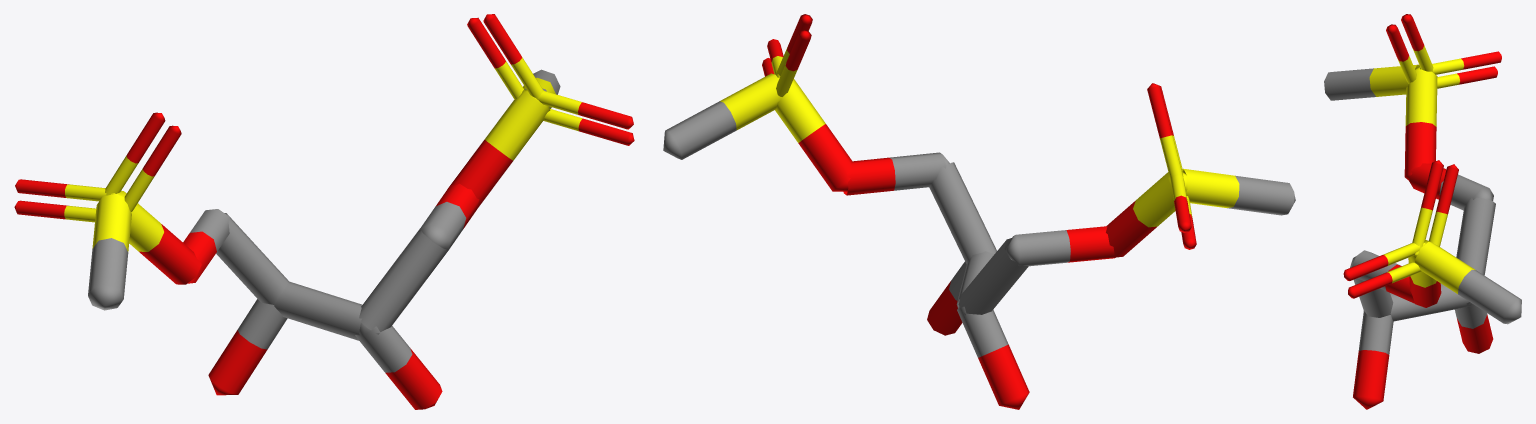
Rendered from treosulfan.glb.
3 views of the same model, side by side, from view 1: azimuth 30°, elevation 25°; view 2: azimuth 150°, elevation 25°; view 3: azimuth 270°, elevation 25° (orthographic). The views are drawn at different scales.
Parts seen in each view (by area): view 1: node-geom11; view 2: node-geom11; view 3: node-geom11.
Boxes of the visible parts, x1,y1,x2,y2 form: node-geom11: [14, 14, 634, 409]; node-geom11: [663, 14, 1295, 409]; node-geom11: [1324, 14, 1521, 409].
Size of the model in its own units: 9.08 by 5.17 by 3.2.
